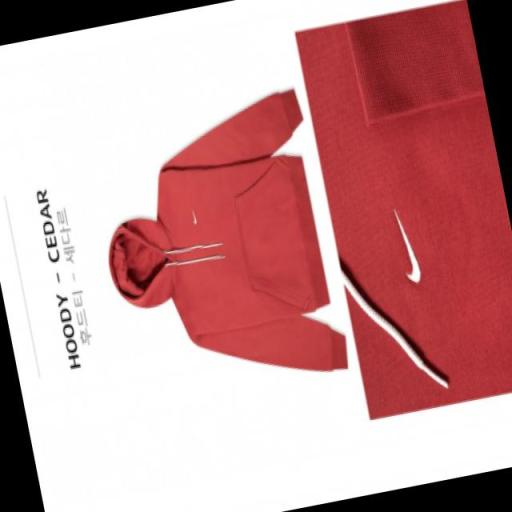Nike: (390, 201, 424, 296)
